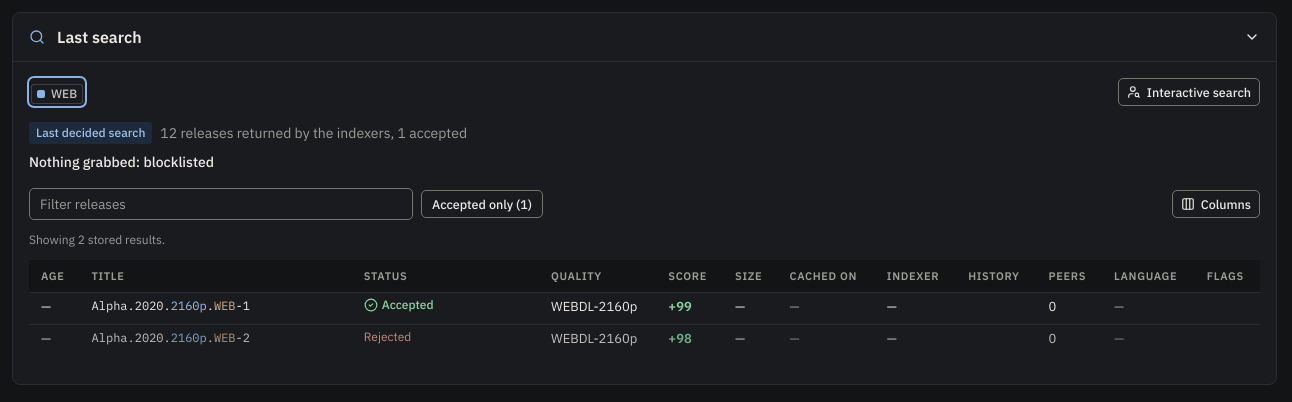
Test case: counts the stored results the filter leaves, and says nothing beside No release matches
Expected: the table with test id "releases-table" is shown, [29,260,1260,356]
Click the button with test id "release-accepted-only". click: (482, 204)
box: [421,190,543,218]
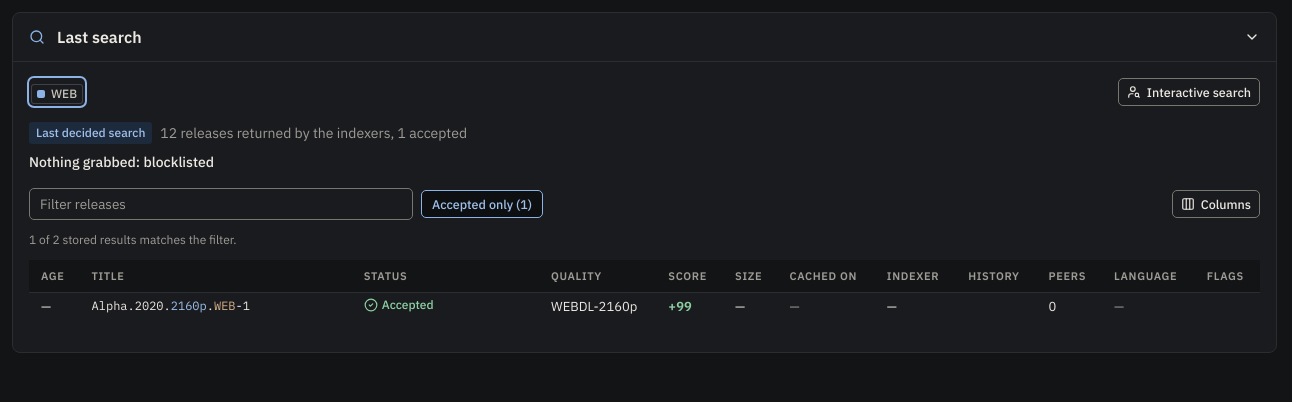
Expected: the text with test id "release-stored-count" reads "1 of 2 stored results matches the filter.", [29,232,237,247]
Type "nothing-matches-this" into the field with test id "release-filter". click: (221, 204)
box: [29,188,413,220]
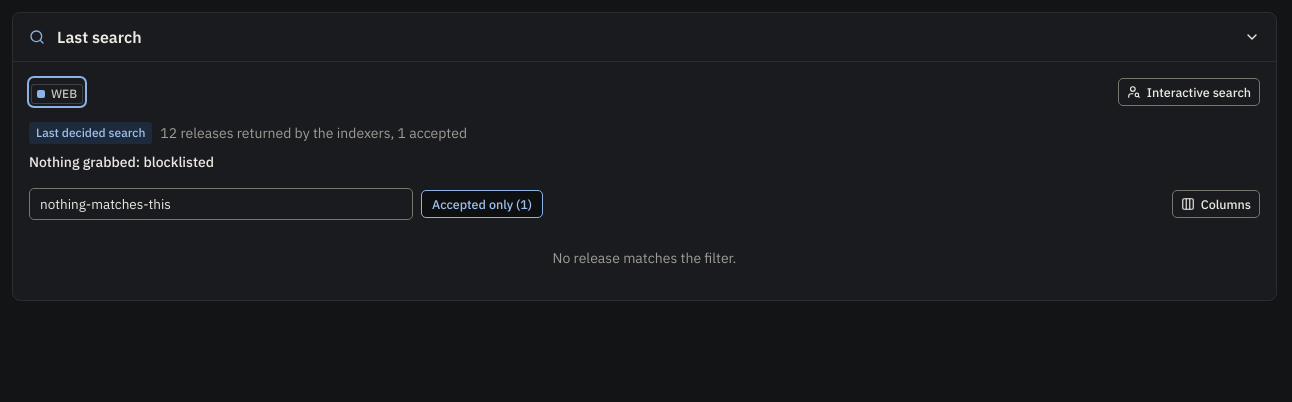
Expected: the text "No release matches the filter." is shown, [553,249,736,267]
Expected: the text with test id "release-stored-count" is gone
